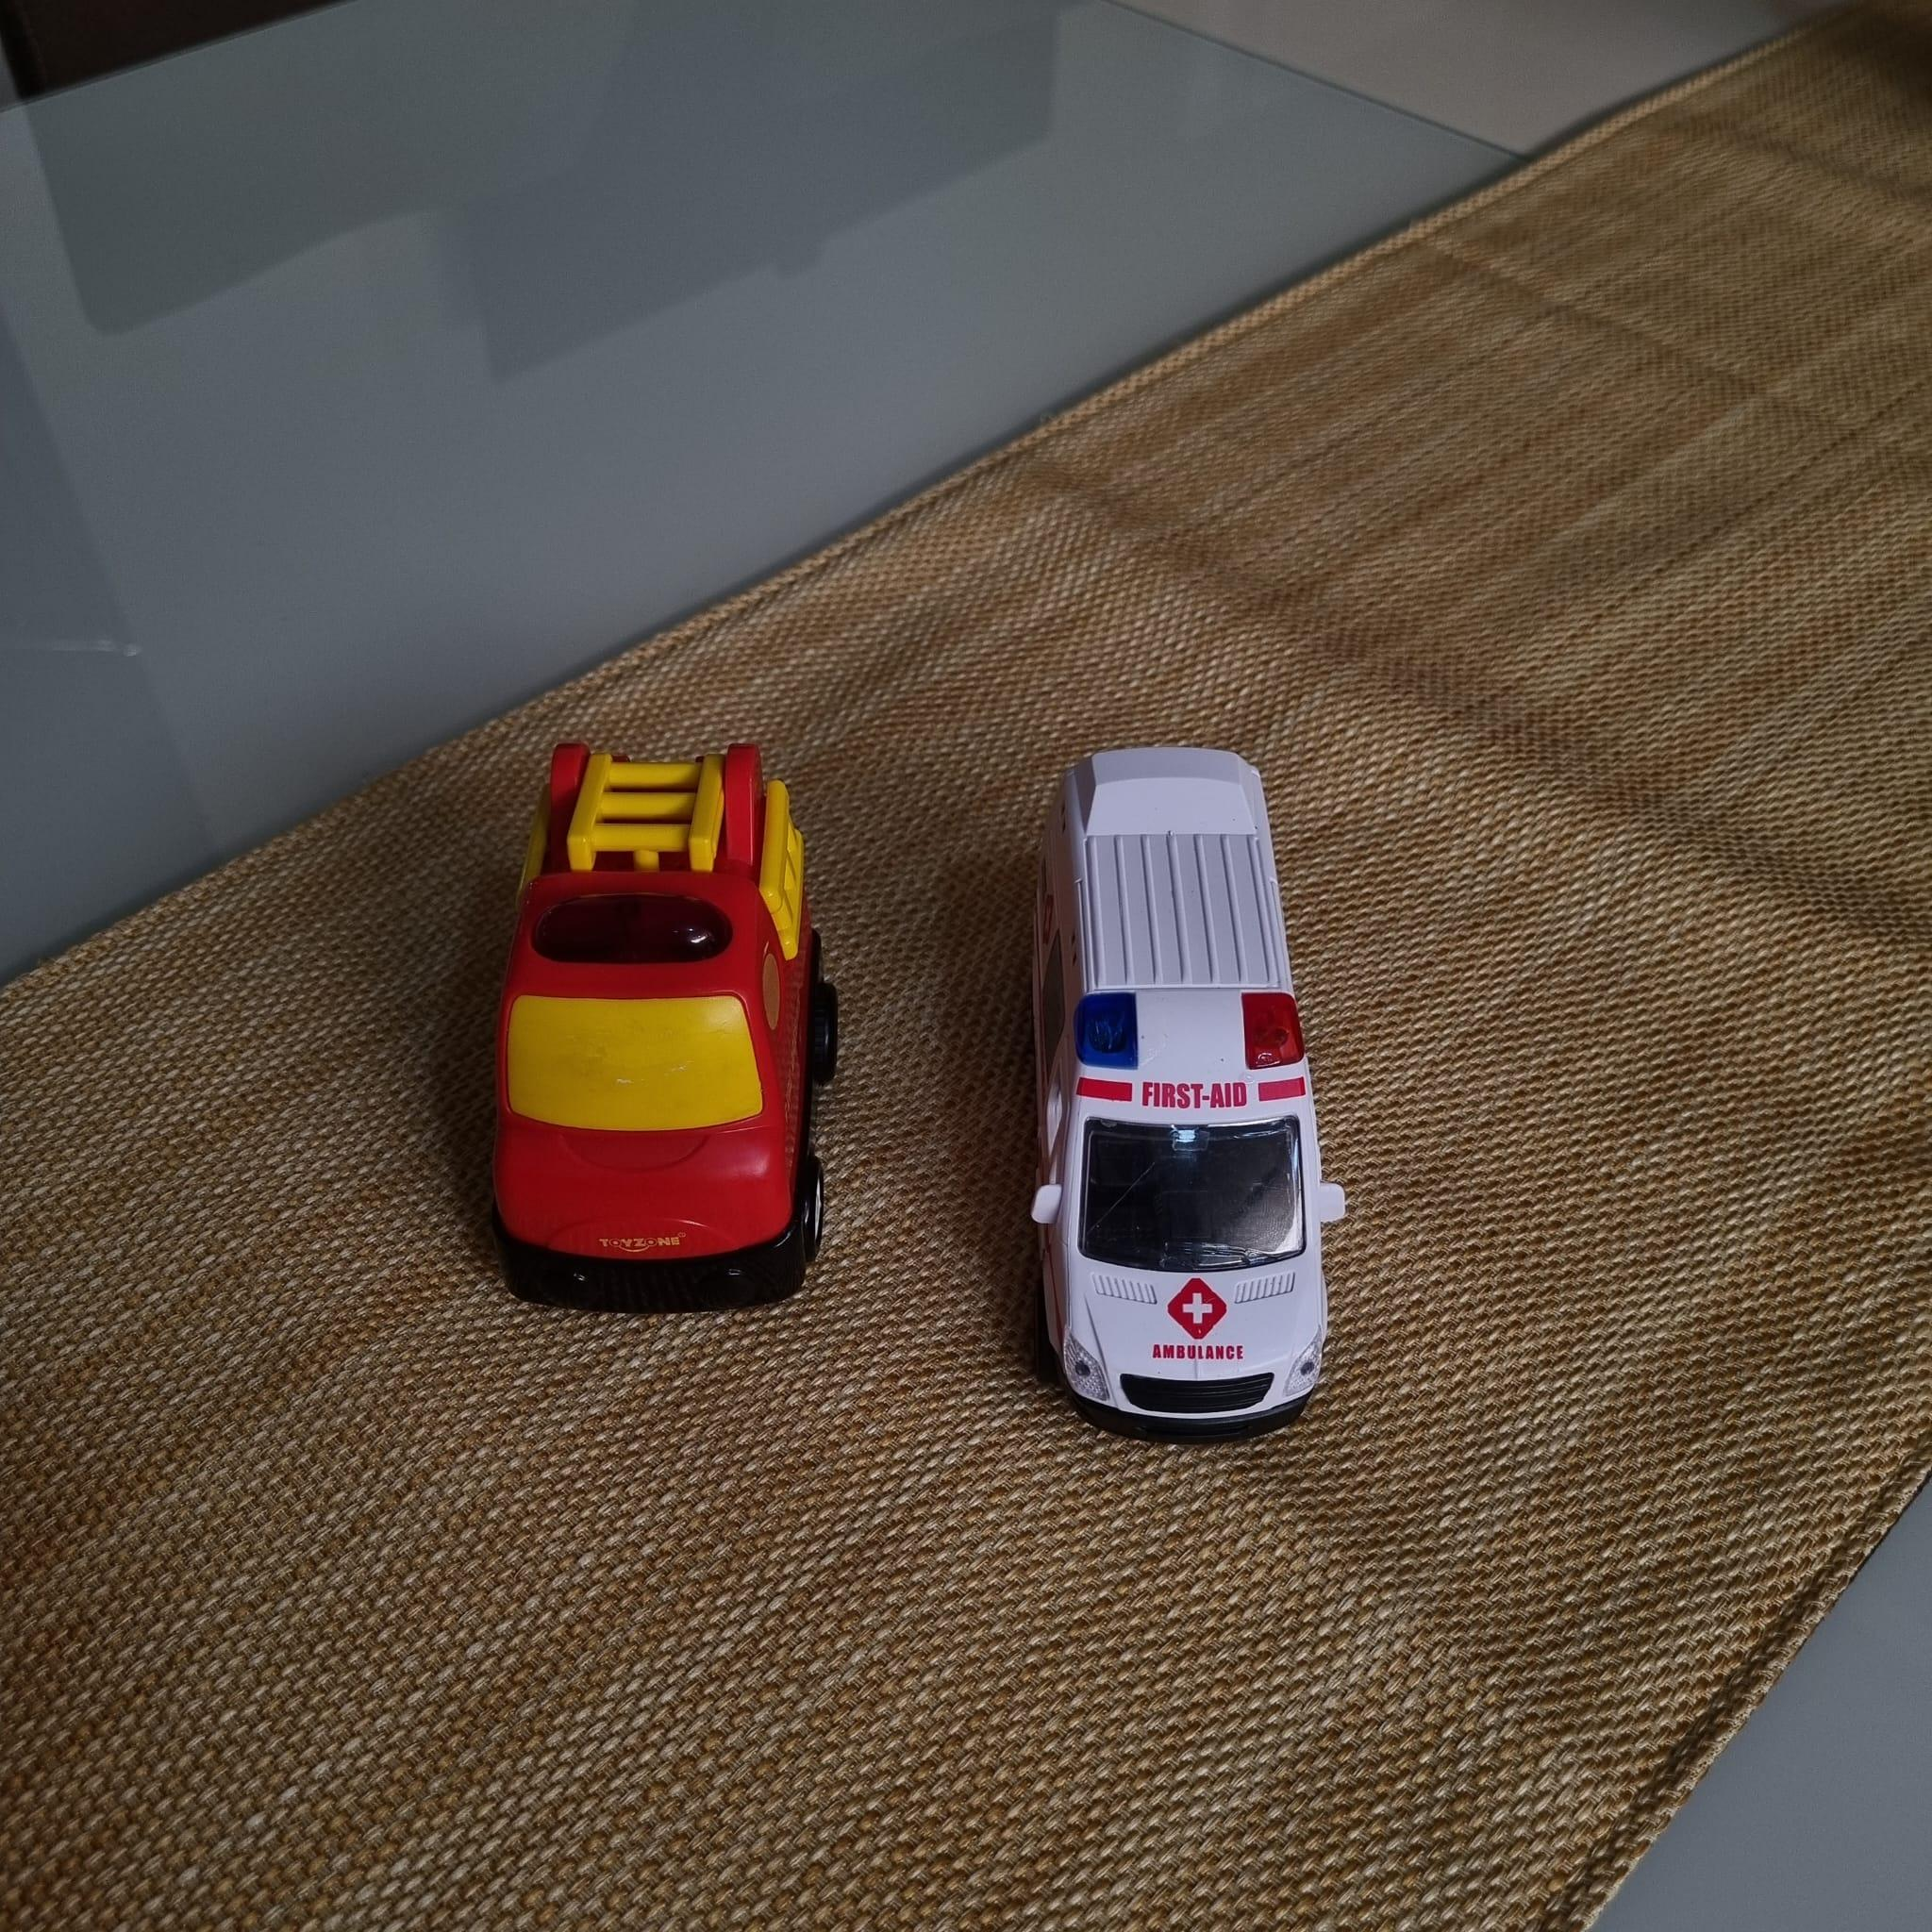ambulance_off: (1033, 732, 1353, 1444)
firetruck_off: (487, 747, 844, 1315)
